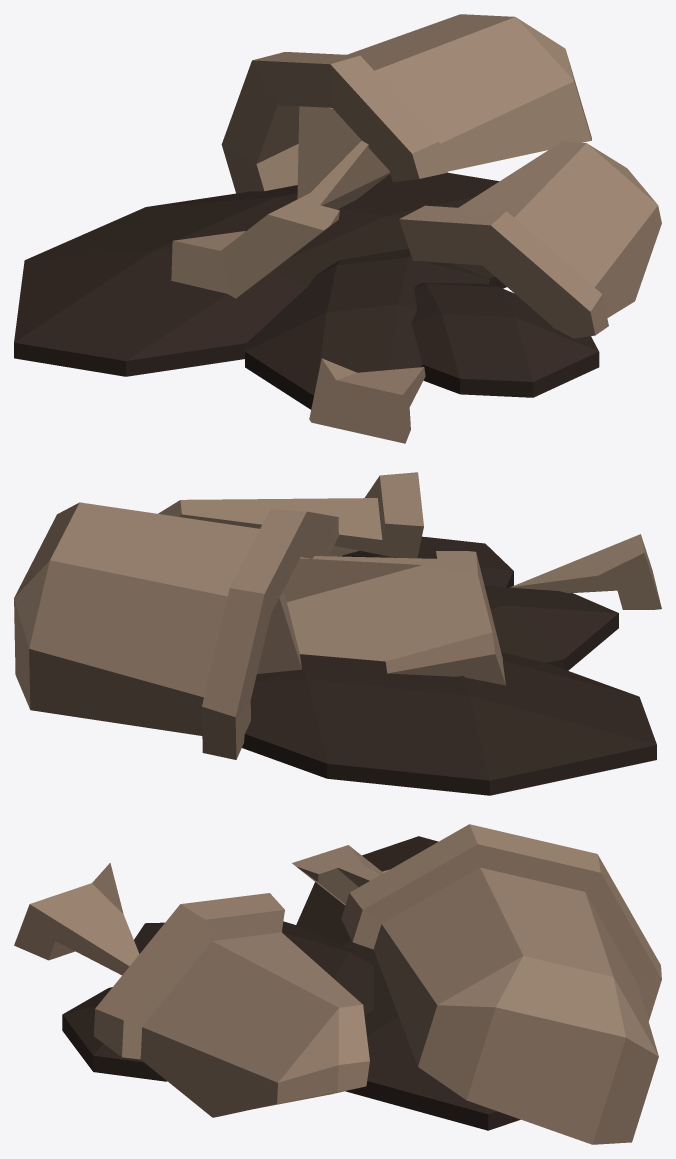
Rendered from w_r_broken_plant_pot.glb.
3 renders of one model, top to bottom at view 1: azimuth 30°, elevation 25°; view 2: azimuth 150°, elevation 25°; view 3: azimuth 270°, elevation 25°, orthographic. The views are drawn at different scales.
Visible parts, largest first — view 1: pot, dirt; view 2: pot, dirt; view 3: pot, dirt.
Boxes of the visible parts, x1,y1,x2,y2 form: pot: [171, 14, 661, 443]; dirt: [14, 172, 599, 409]; pot: [14, 472, 661, 759]; dirt: [242, 536, 656, 795]; pot: [14, 824, 661, 1144]; dirt: [62, 836, 520, 1130].
Bounding box in the file's own units: 2.43 × 0.8157 × 2.16.
